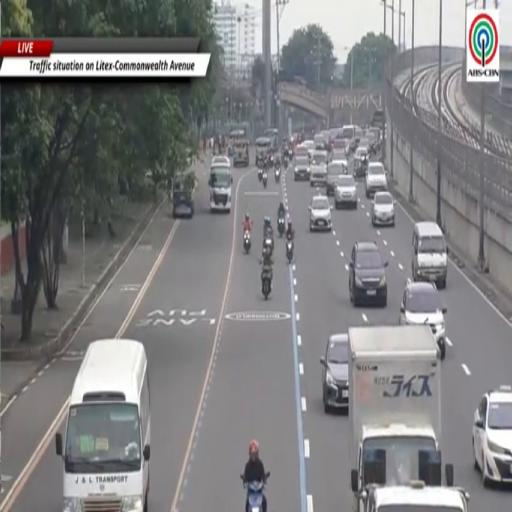bus: (56, 340, 150, 510), (209, 163, 232, 212)
car: (473, 386, 511, 486), (399, 281, 446, 360), (349, 242, 387, 307), (321, 333, 348, 413), (372, 191, 395, 227), (309, 196, 332, 231), (335, 174, 357, 209), (366, 163, 387, 198), (326, 162, 346, 196), (310, 151, 327, 186), (294, 156, 309, 181), (332, 149, 348, 168), (303, 140, 315, 160), (212, 155, 230, 166), (294, 144, 308, 158), (358, 137, 370, 153), (314, 134, 326, 150), (355, 148, 369, 159)
jeepney: (233, 139, 249, 167), (256, 137, 272, 165), (228, 130, 245, 156)
motorcycle: (241, 475, 264, 511), (261, 268, 272, 299), (286, 239, 294, 263), (243, 231, 251, 253), (264, 236, 273, 255), (278, 217, 285, 237), (262, 171, 267, 187), (258, 167, 263, 182), (275, 169, 280, 182), (283, 157, 288, 169)
truck: (348, 325, 441, 511), (365, 482, 469, 511)
